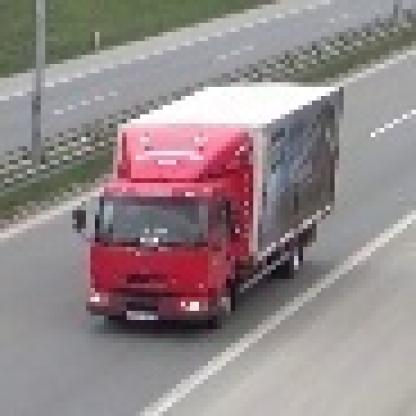truck: (69, 74, 345, 321)
